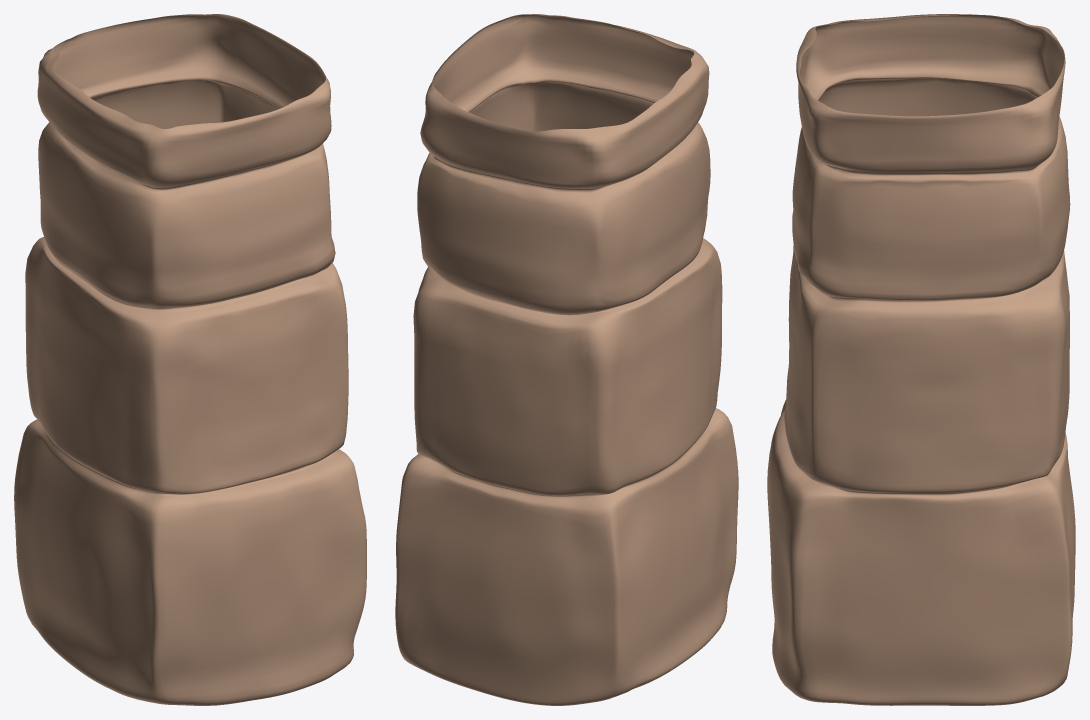
Rendered from Base_Coupled_Platform_3D_HP.fbx.
3 views of the same model, side by side, from view 1: azimuth 30°, elevation 25°; view 2: azimuth 150°, elevation 25°; view 3: azimuth 270°, elevation 25° (orthographic). The views are drawn at different scales.
Visible parts, largest first — view 1: Box023; view 2: Box023; view 3: Box023.
Boxes of the visible parts, x1=… form: Box023: x1=14, y1=14, x2=366, y2=705; Box023: x1=395, y1=14, x2=738, y2=705; Box023: x1=767, y1=14, x2=1075, y2=705.
Bounding box in the file's own units: 212 × 513 × 234.
